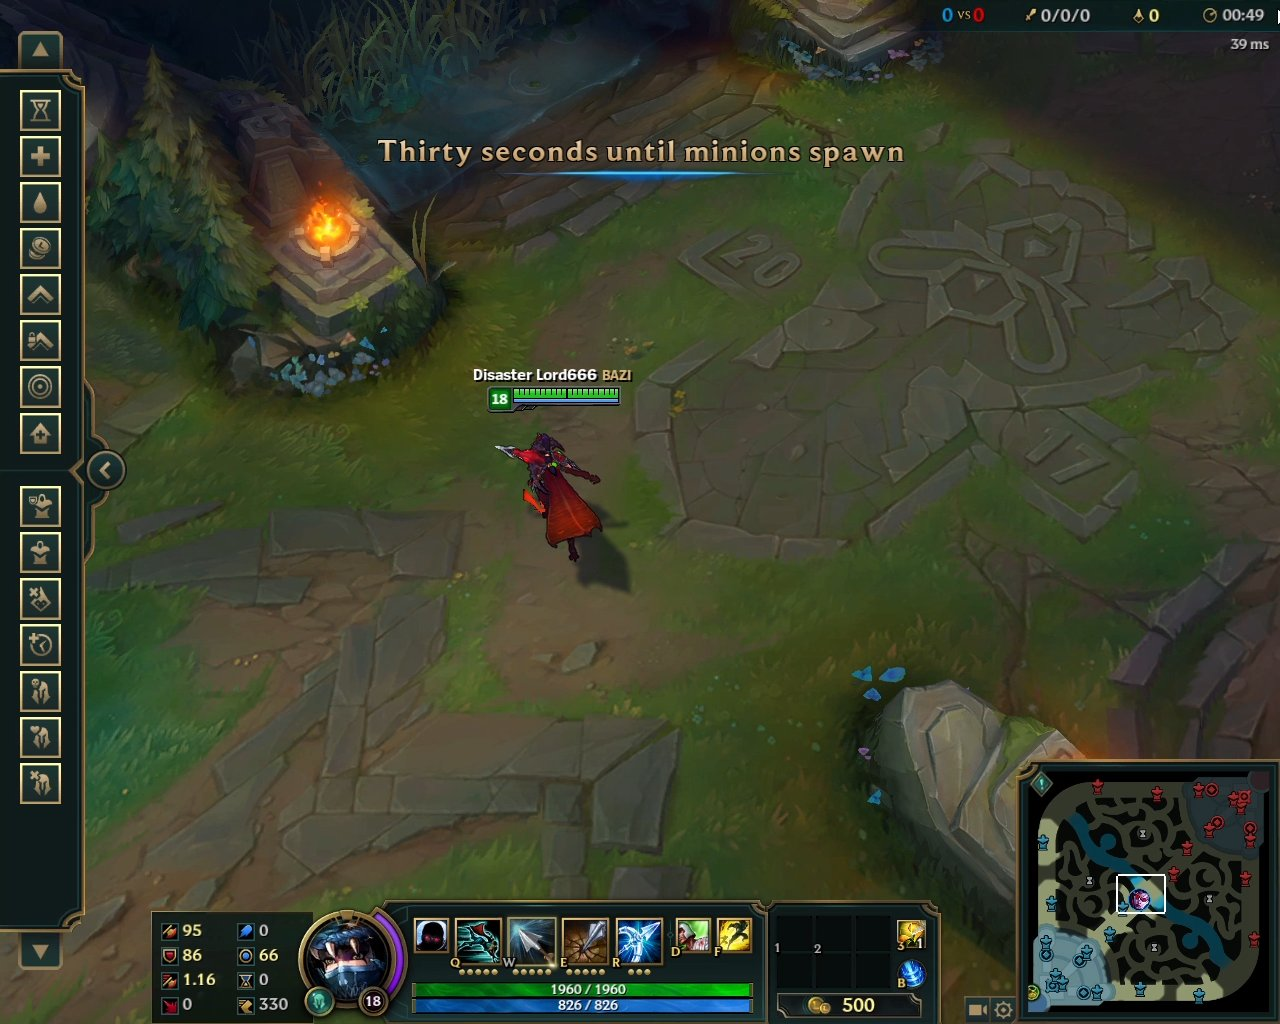Vayne: (486, 426, 614, 567)
